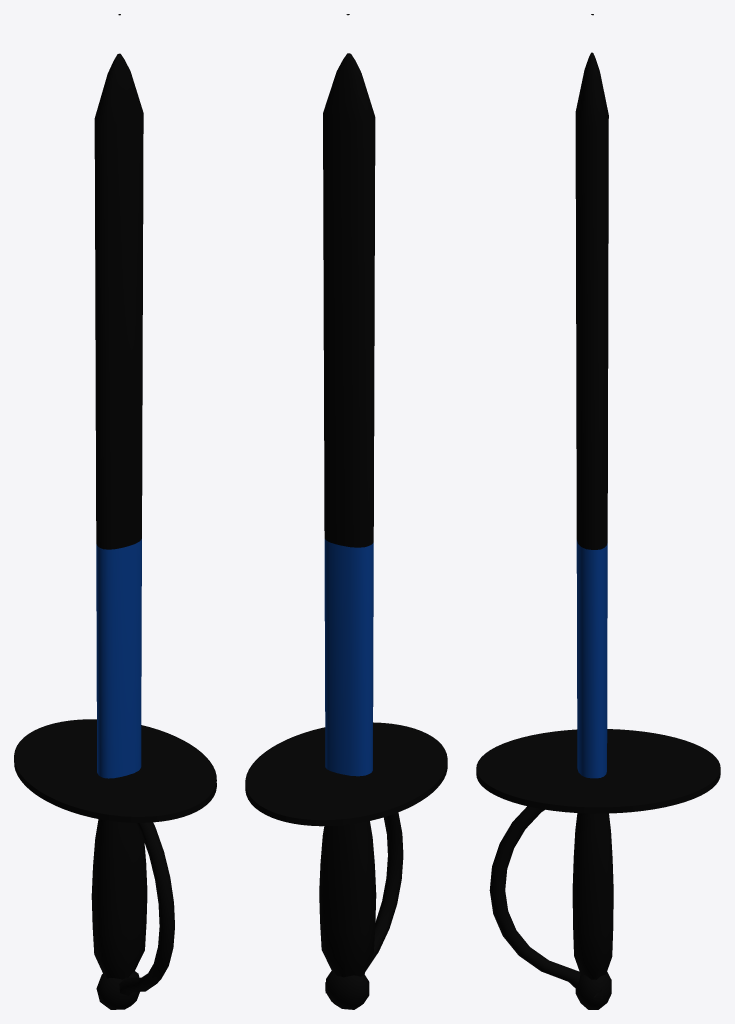
File: Spadanapoleone.obj
The picture shows the model from 3 angles, left to right: view 1: azimuth 30°, elevation 25°; view 2: azimuth 150°, elevation 25°; view 3: azimuth 270°, elevation 25°; orthographic projection.
Size of the model in its own units: 1.53 by 8.98 by 2.
